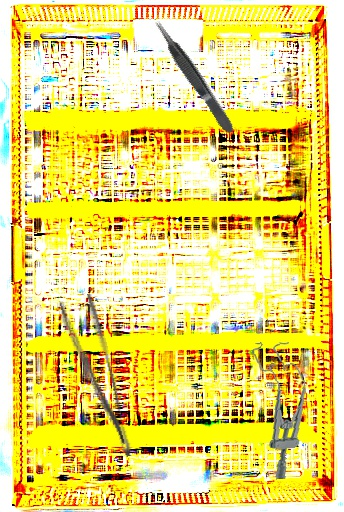Dressing Forceps: (56, 292, 135, 465)
Speculum: (251, 338, 315, 481)
Tissue Forceps: (150, 16, 237, 138)
